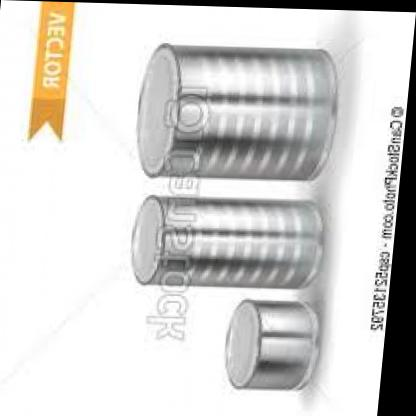Metal: (80, 26, 378, 412)
